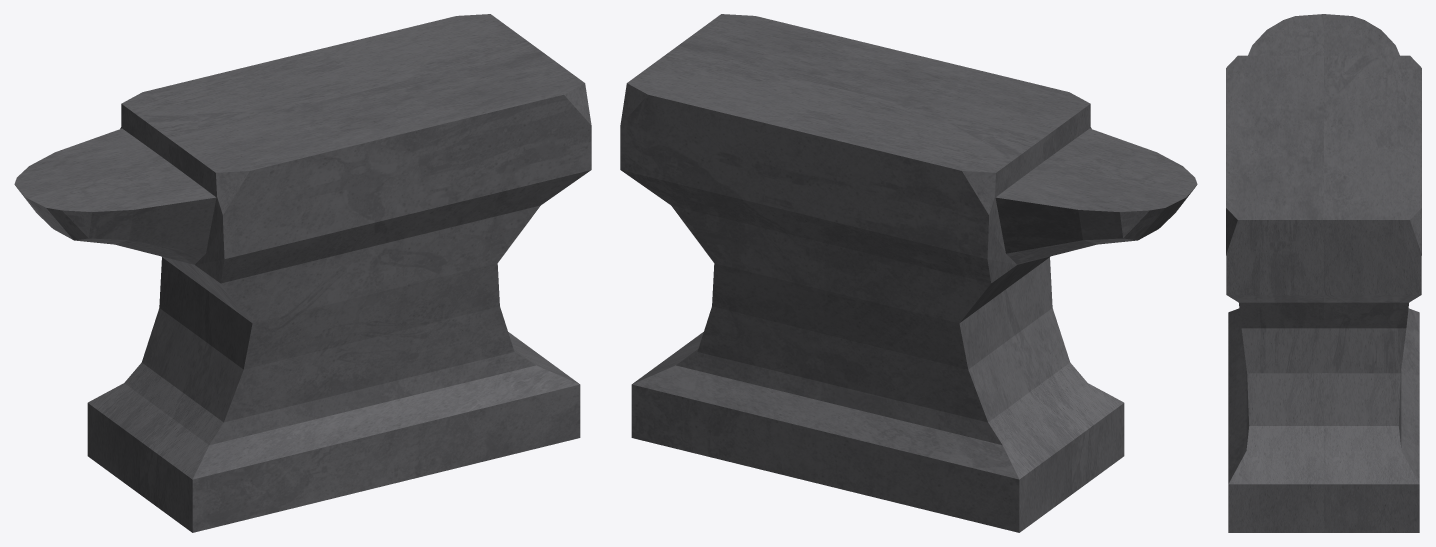
The model's file is Anvil.fbx.
3 views of the same model, side by side, from view 1: azimuth 30°, elevation 25°; view 2: azimuth 150°, elevation 25°; view 3: azimuth 270°, elevation 25° (orthographic). The views are drawn at different scales.
Parts seen in each view (by area): view 1: Anvil; view 2: Anvil; view 3: Anvil.
Boxes of the visible parts, x1,y1,x2,y2 form: Anvil: (14, 14, 591, 532); Anvil: (620, 14, 1197, 532); Anvil: (1226, 14, 1421, 532).
Bounding box in the file's own units: 2.09 × 1.36 × 0.7607.
